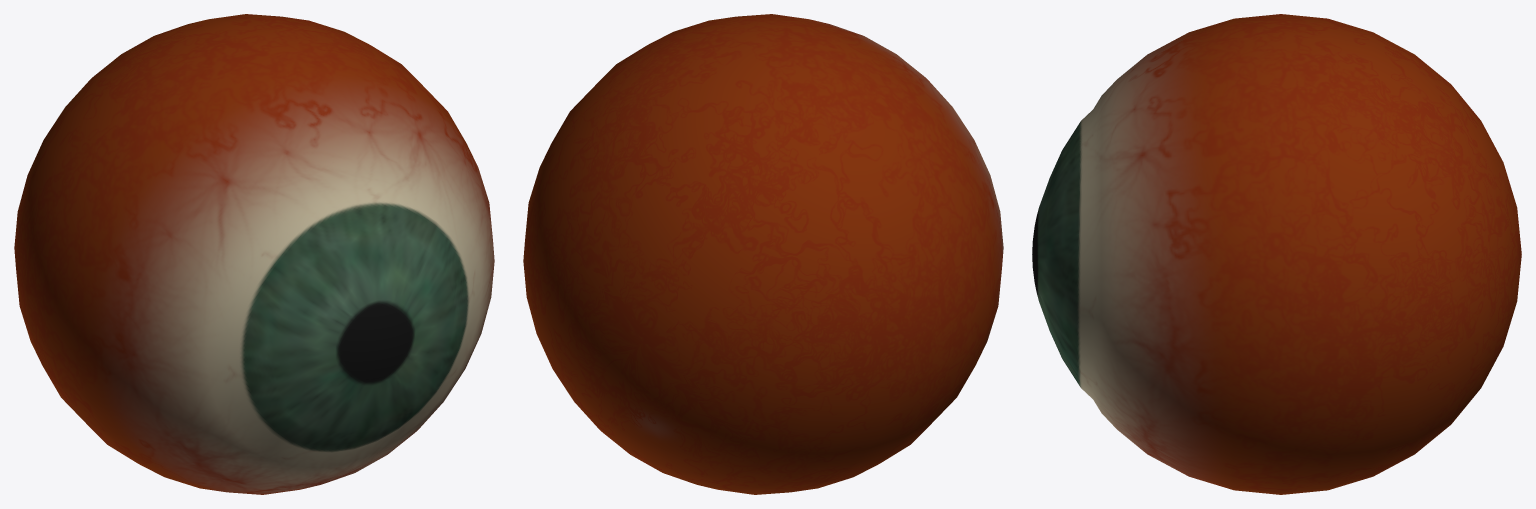
The model's file is human_eye.glb.
3 renders of one model, left to right at view 1: azimuth 30°, elevation 25°; view 2: azimuth 150°, elevation 25°; view 3: azimuth 270°, elevation 25°, orthographic.
Visible parts, largest first — view 1: Eye_LP_0; view 2: Eye_LP_0; view 3: Eye_LP_0.
Boxes of the visible parts, x1,y1,x2,y2 form: Eye_LP_0: (14, 14, 494, 494); Eye_LP_0: (523, 14, 1003, 494); Eye_LP_0: (1032, 14, 1521, 494).
Bounding box in the file's own units: 2 × 2 × 2.03.
Materials: 1 (1 with a texture image).
